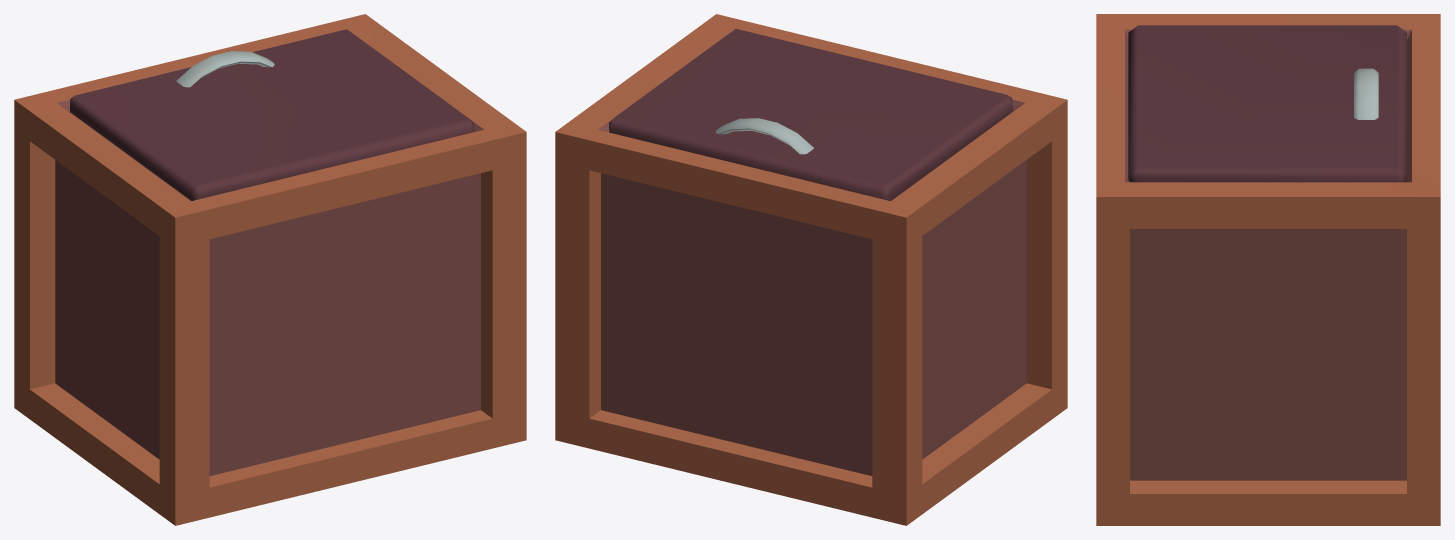
File: CaixaArmazem.fbx
3 views of the same model, side by side, from view 1: azimuth 30°, elevation 25°; view 2: azimuth 150°, elevation 25°; view 3: azimuth 270°, elevation 25° (orthographic). The views are drawn at different scales.
Parts seen in each view (by area): view 1: Armazem, Armazem.002; view 2: Armazem, Armazem.002; view 3: Armazem, Armazem.002.
Part boxes in pixels (x1=…): Armazem: x1=14, y1=14, x2=526, y2=525; Armazem.002: x1=70, y1=29, x2=473, y2=200; Armazem: x1=555, y1=14, x2=1067, y2=525; Armazem.002: x1=609, y1=28, x2=1012, y2=200; Armazem: x1=1096, y1=14, x2=1440, y2=525; Armazem.002: x1=1128, y1=25, x2=1406, y2=182.
Size of the model in its own units: 1.9 by 1.73 by 1.51.
